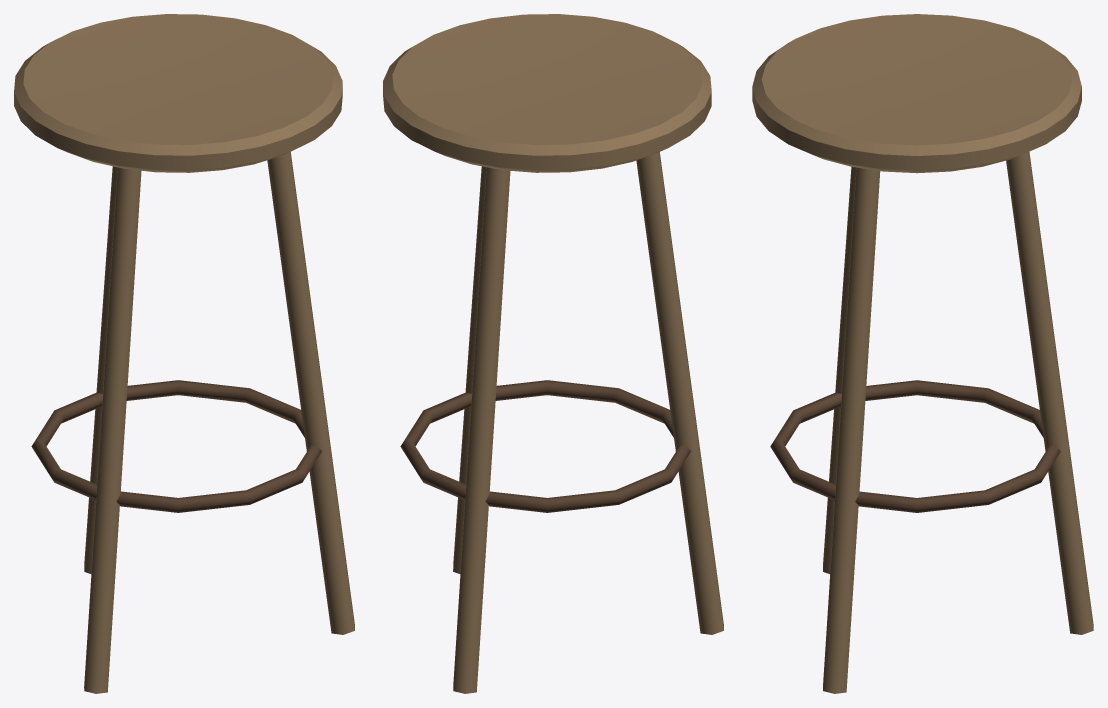
Rendered from stool.glb.
The picture shows the model from 3 angles, left to right: view 1: azimuth 30°, elevation 25°; view 2: azimuth 150°, elevation 25°; view 3: azimuth 270°, elevation 25°; orthographic projection.
Visible parts, largest first — view 1: Stool_Seat, Stool, Stool_Ring; view 2: Stool_Seat, Stool, Stool_Ring; view 3: Stool_Seat, Stool, Stool_Ring.
Part boxes in pixels (x1,y1,x2,y2): Stool_Seat: [14, 14, 342, 172]; Stool: [84, 152, 354, 693]; Stool_Ring: [31, 380, 321, 512]; Stool_Seat: [383, 14, 711, 172]; Stool: [453, 152, 723, 693]; Stool_Ring: [400, 380, 690, 512]; Stool_Seat: [752, 14, 1081, 173]; Stool: [823, 152, 1093, 693]; Stool_Ring: [770, 380, 1060, 512].
Size of the model in its own units: 0.35 by 0.6455 by 0.3625.
